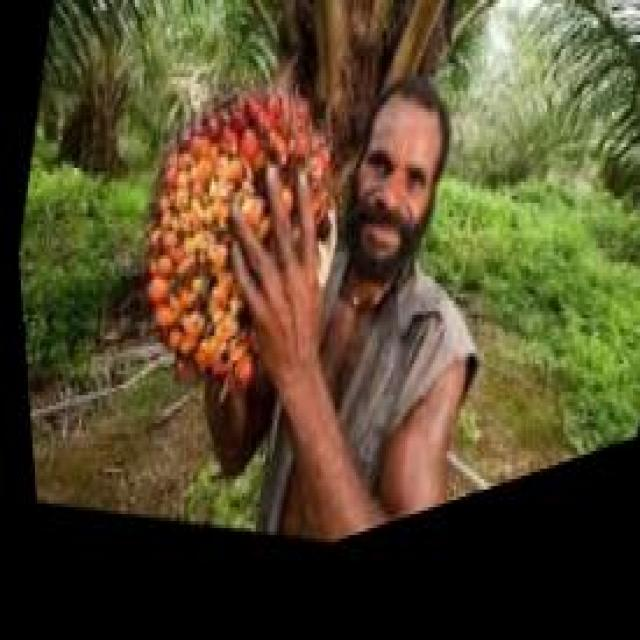Ripefruit: (107, 28, 368, 476)
